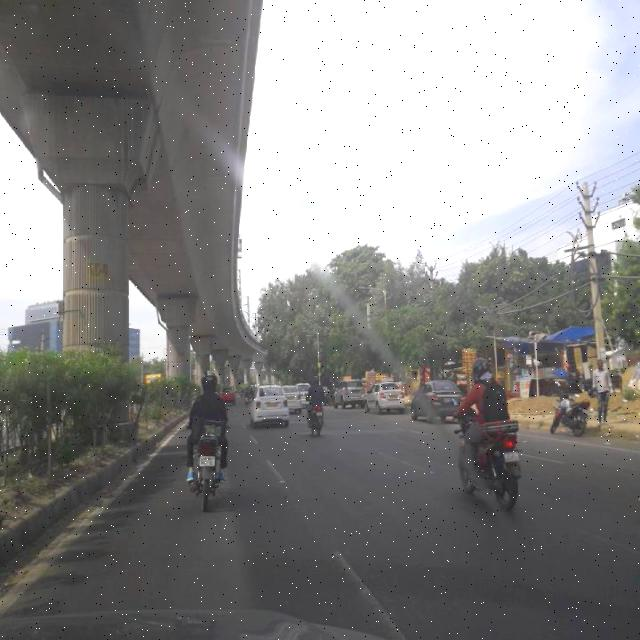D44: (329, 540, 407, 634), (570, 519, 640, 559), (378, 448, 441, 482)
